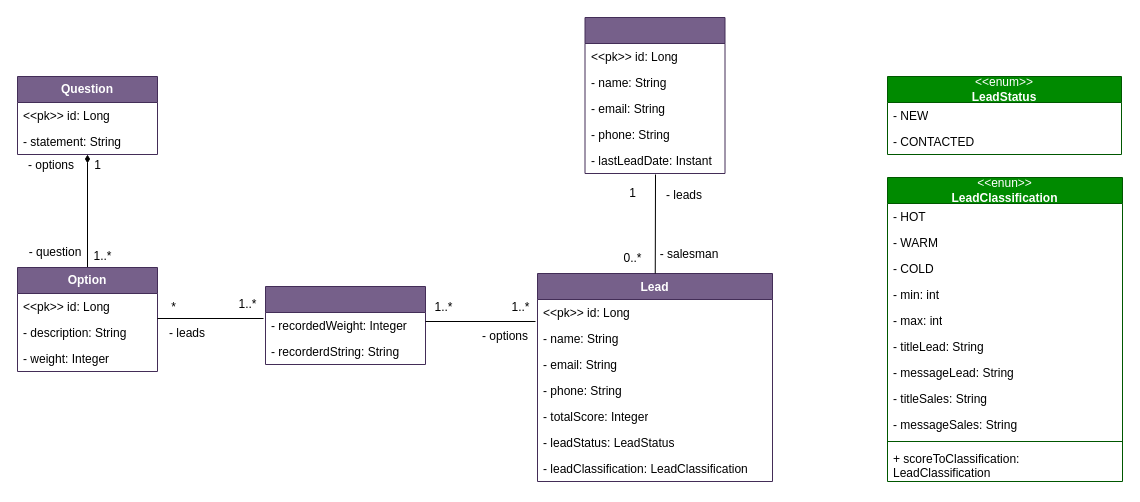
Some shapes in this 1140 by 502 pixel diagram are drawn without their labels. Each missing label, with the box of its shape:
Answer: (264, 286, 426, 364)
Salesman: (584, 16, 725, 174)
